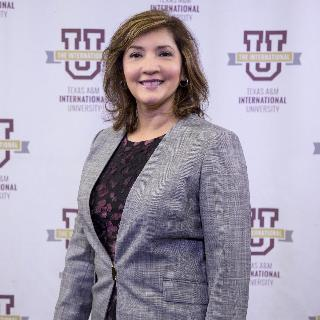person - v3 P: (55, 11, 250, 319)
